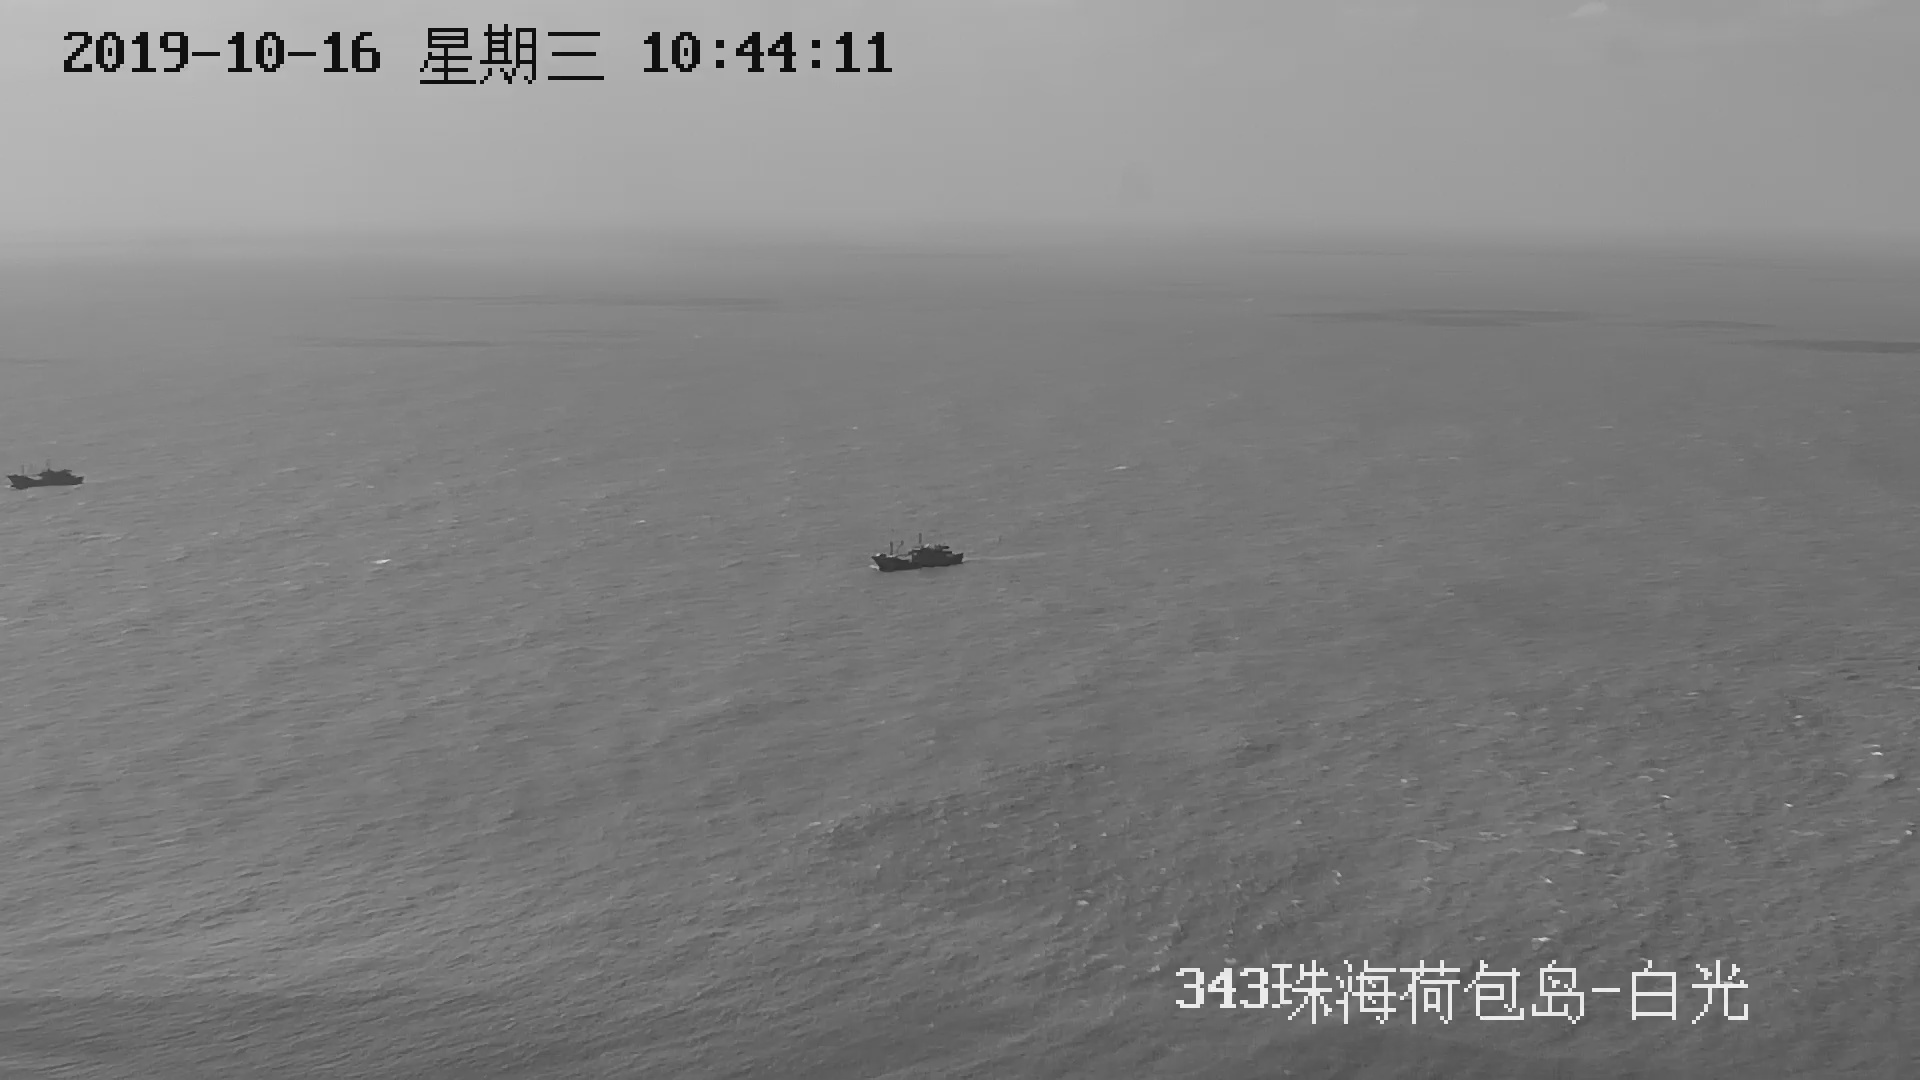ship: (870, 537, 967, 572), (13, 465, 83, 491)
